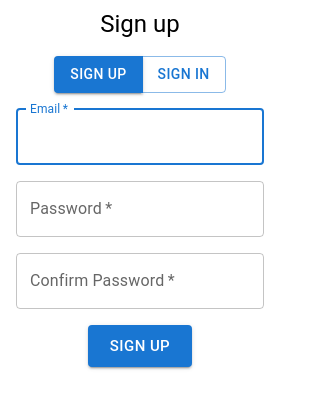
<SignUp /> › sign Up › Simulate an email error
Type "aaaa" into the field named "email" at point(140, 137), box [16, 109, 264, 165]
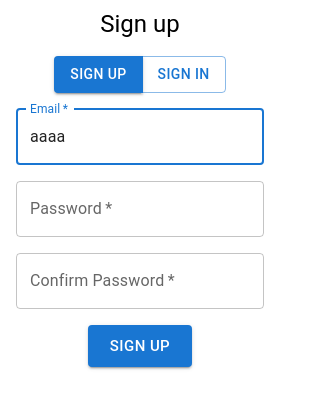
Type "password" into the password field named "password" at point(140, 209), box [16, 181, 264, 237]
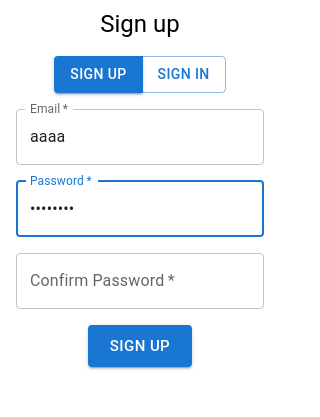
Type "password" into the password field named "confirmPassword" at point(140, 281), box [16, 253, 264, 309]
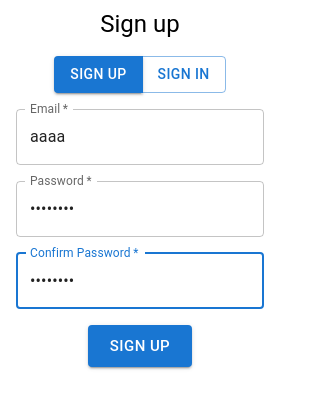
Click the submit button at point(140, 346), box [88, 325, 192, 367]
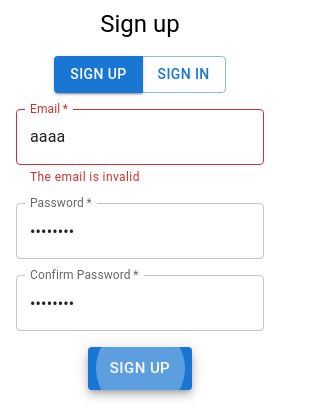
Expected: the text "The email is invalid" is shown, [30, 170, 140, 184]
